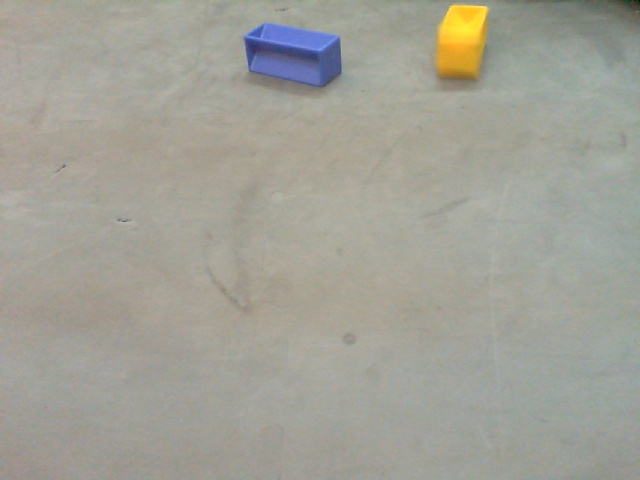BlueSample: (241, 21, 345, 91)
YellowSample: (433, 3, 491, 84)
